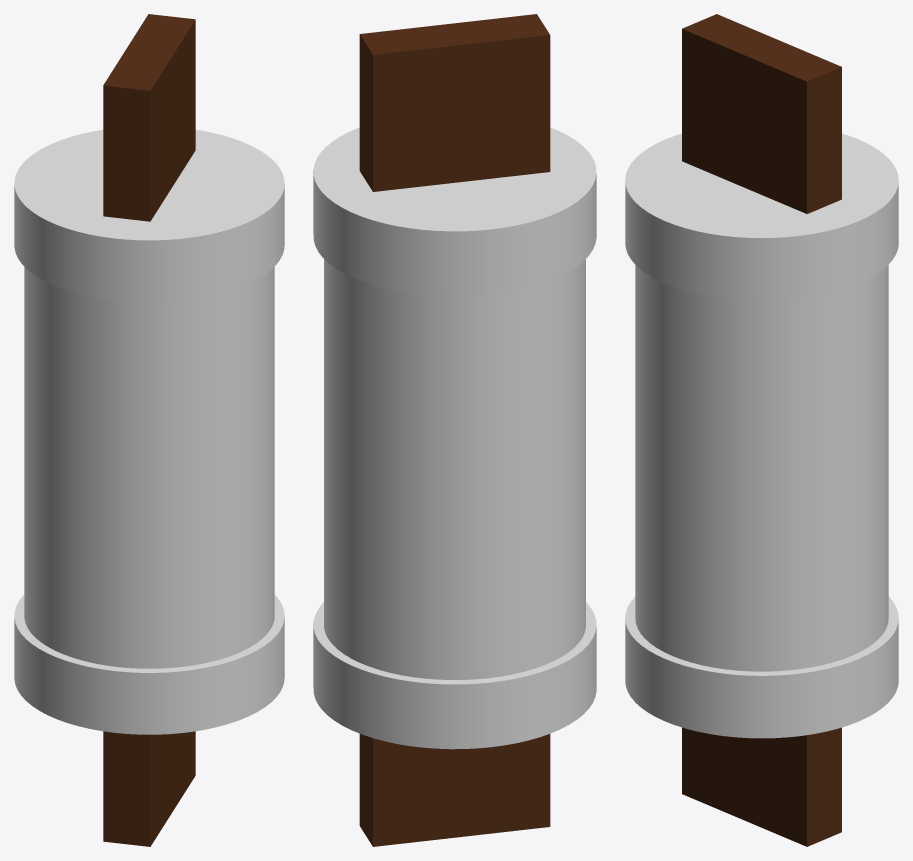
Rendered from fuse.fbx.
The picture shows the model from 3 angles, left to right: view 1: azimuth 30°, elevation 25°; view 2: azimuth 150°, elevation 25°; view 3: azimuth 270°, elevation 25°; orthographic projection. The views are drawn at different scales.
Visible parts, largest first — view 1: fuse; view 2: fuse; view 3: fuse.
Part boxes in pixels (x1,y1,x2,y2): fuse: [14, 14, 284, 846]; fuse: [313, 14, 596, 846]; fuse: [625, 14, 898, 846].
Size of the model in its own units: 8.89 by 27.43 by 8.89.
